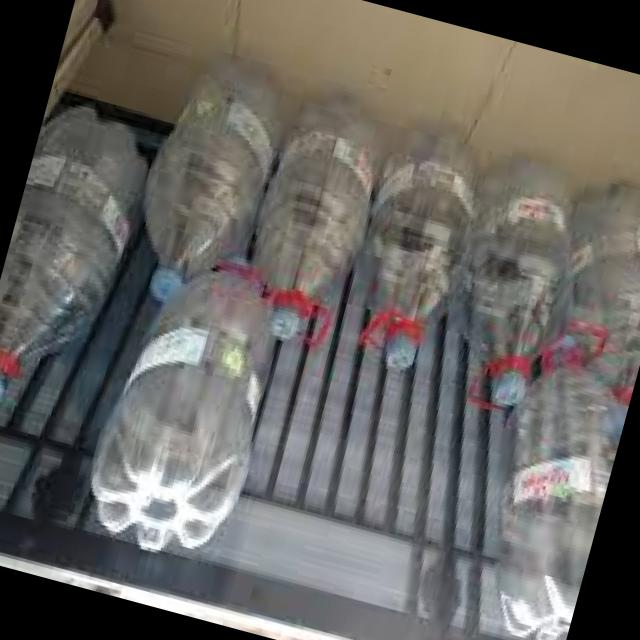Galon: (88, 250, 306, 554), (453, 369, 627, 640)
